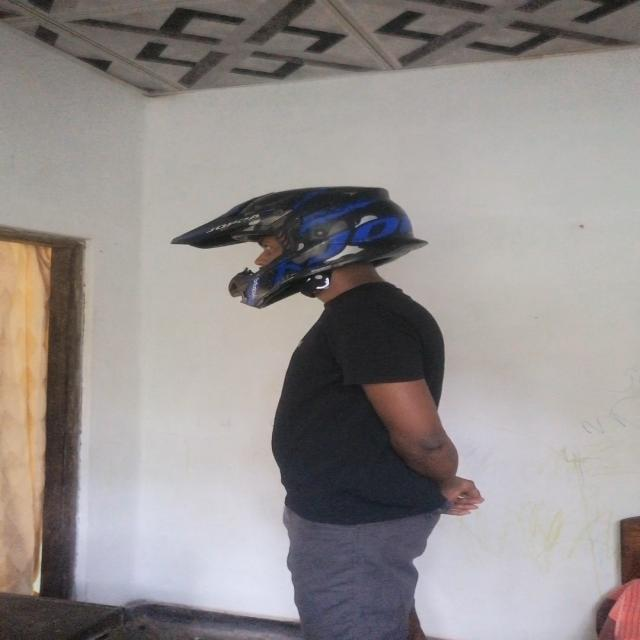Helmet_Wearer: (172, 168, 427, 311)
Person: (252, 181, 517, 640)
